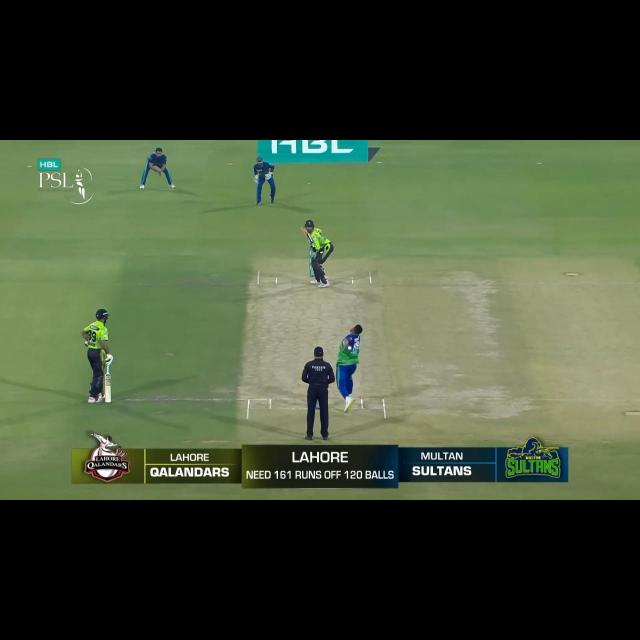bat: (299, 226, 315, 244), (105, 374, 112, 404)
toe: (104, 399, 112, 405), (300, 226, 307, 231)
